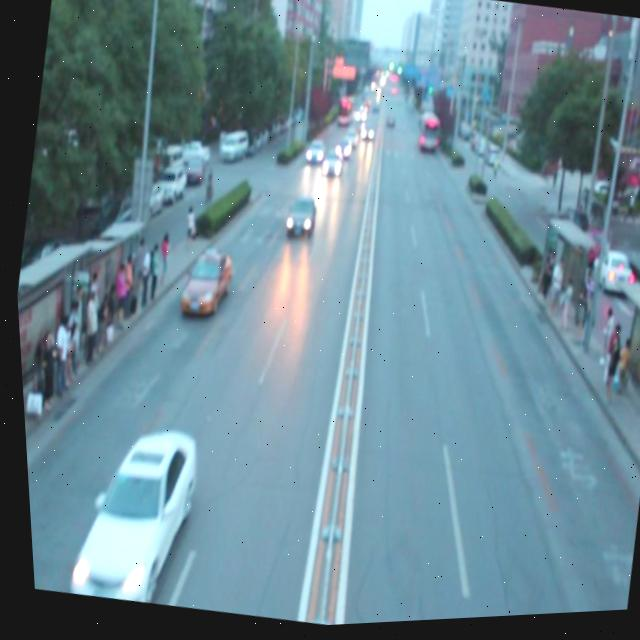car: (56, 416, 199, 612), (172, 243, 233, 324), (277, 193, 317, 244), (316, 154, 342, 184), (301, 141, 323, 165), (329, 141, 350, 164), (339, 131, 358, 151)
